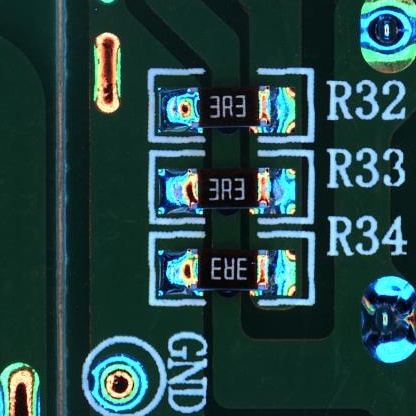spot: (358, 275, 416, 363), (358, 1, 416, 75), (89, 354, 148, 411)
